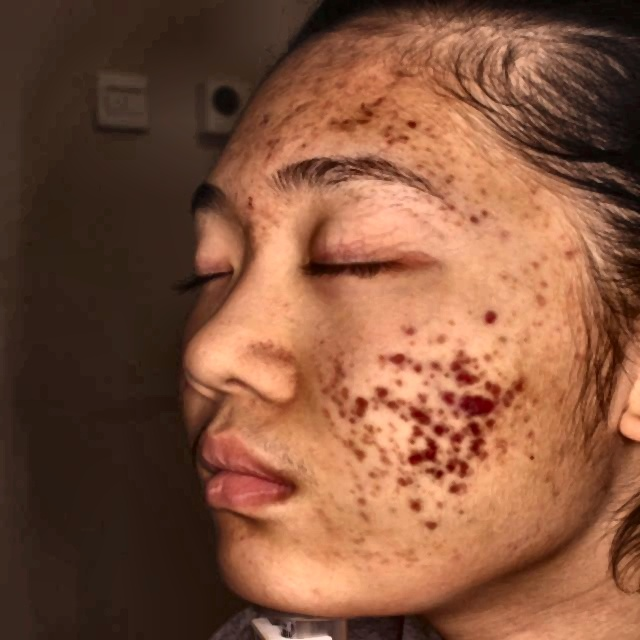papule: (391, 494, 429, 518), (448, 363, 478, 391), (278, 97, 309, 123), (385, 69, 409, 97), (292, 77, 322, 99), (475, 395, 500, 421), (458, 451, 480, 478), (353, 387, 372, 418), (353, 110, 377, 133), (330, 379, 352, 404), (380, 117, 398, 146), (265, 123, 284, 150), (363, 96, 385, 119), (387, 347, 410, 369), (408, 402, 431, 424), (331, 112, 352, 136), (482, 372, 502, 396), (430, 418, 450, 440), (459, 388, 478, 411), (462, 411, 483, 430), (421, 465, 440, 486), (465, 436, 484, 456), (483, 305, 503, 323), (407, 417, 426, 435), (418, 436, 437, 454), (401, 130, 421, 147), (390, 110, 416, 123), (412, 445, 434, 459), (445, 478, 464, 493), (445, 449, 457, 472), (372, 383, 390, 398), (451, 425, 465, 440), (387, 400, 398, 408)
